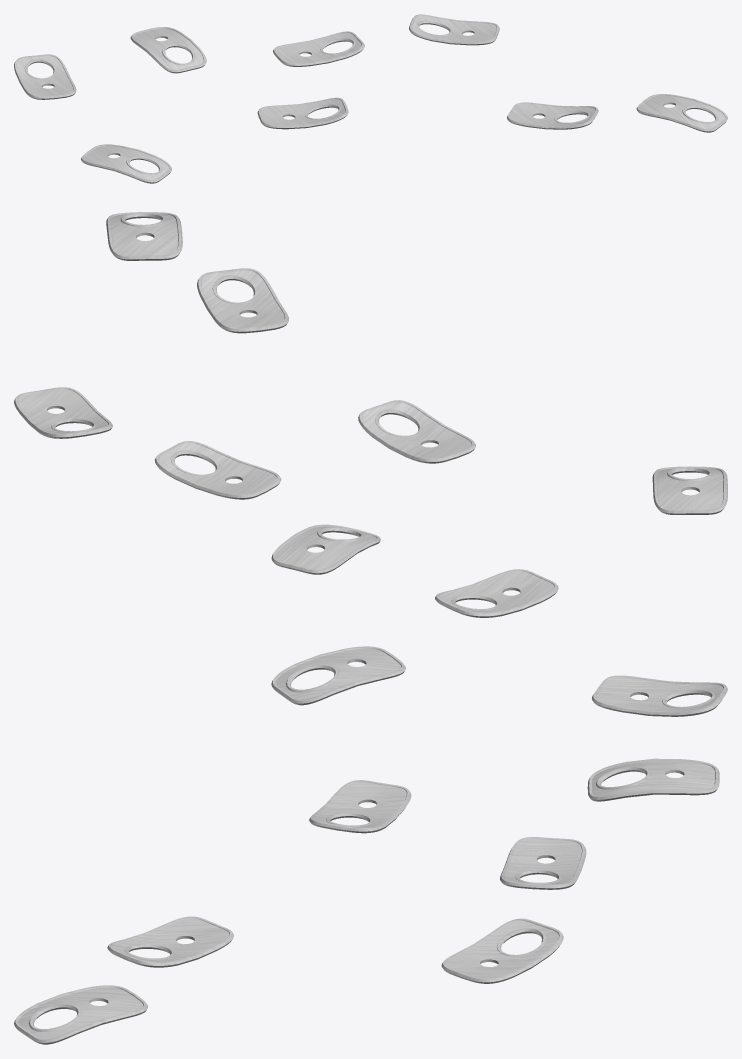
File: SM_PL_Debris_PullTabsLot_dirty.fbx
3 renders of one model, top to bottom at view 1: azimuth 30°, elevation 25°; view 2: azimuth 150°, elevation 25°; view 3: azimuth 270°, elevation 25°, orthographic. The views are drawn at different scales.
Parts seen in each view (by area): view 1: SM_PL_Debris_PullTabsLot_dirty; view 2: SM_PL_Debris_PullTabsLot_dirty; view 3: SM_PL_Debris_PullTabsLot_dirty.
Part boxes in pixels (box(x1,y1,x2,y2)): SM_PL_Debris_PullTabsLot_dirty: box(14, 14, 727, 183); SM_PL_Debris_PullTabsLot_dirty: box(14, 212, 727, 617); SM_PL_Debris_PullTabsLot_dirty: box(14, 646, 727, 1044).
Bounding box in the file's own units: 0.1521 × 0.00311 × 0.1185.
1 material, 1 textured.
